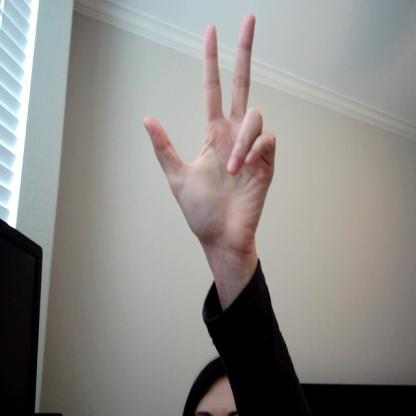three: (136, 14, 278, 254)
